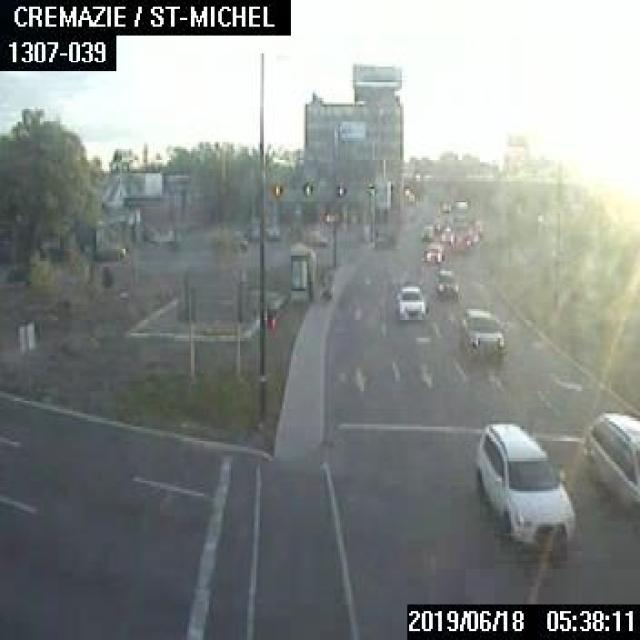vehicle: (473, 418, 576, 553), (578, 409, 638, 509), (458, 307, 504, 353), (394, 284, 424, 318), (433, 267, 458, 298), (148, 227, 178, 242), (422, 240, 442, 262), (93, 245, 124, 259), (440, 226, 455, 243), (420, 225, 433, 239)
